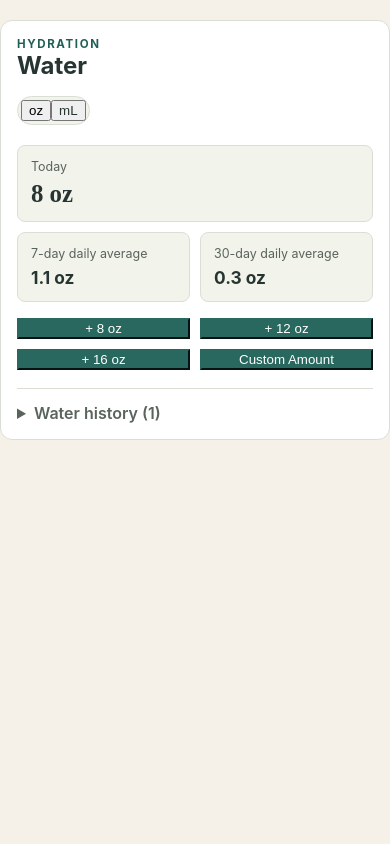
edits an entry in place and updates the total
The width and height of the screenshot is (390, 844).
Click the heading "Water history (1)" at (97, 413), box [34,403,161,423]
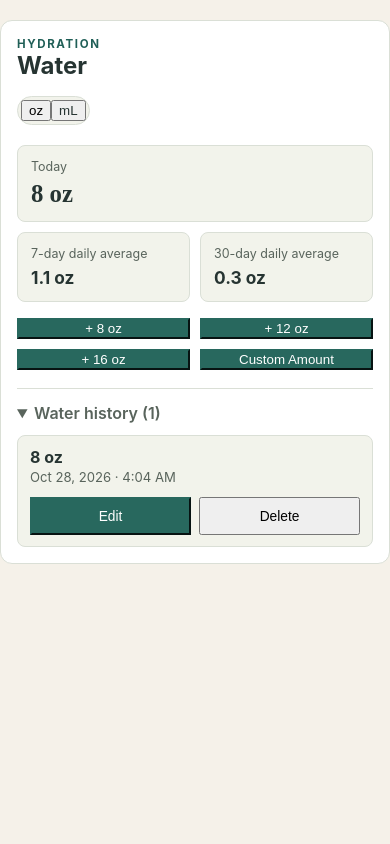
Click the button with aria-label "Edit 8 oz water entry" at (110, 516), box [30,497,191,535]
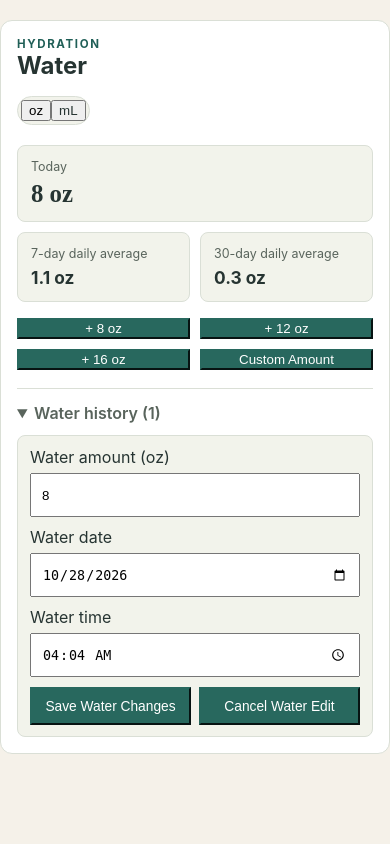
Replace the text in the number field named "Edit water amount in oz" with "12" at (195, 495), box [30,473,360,517]
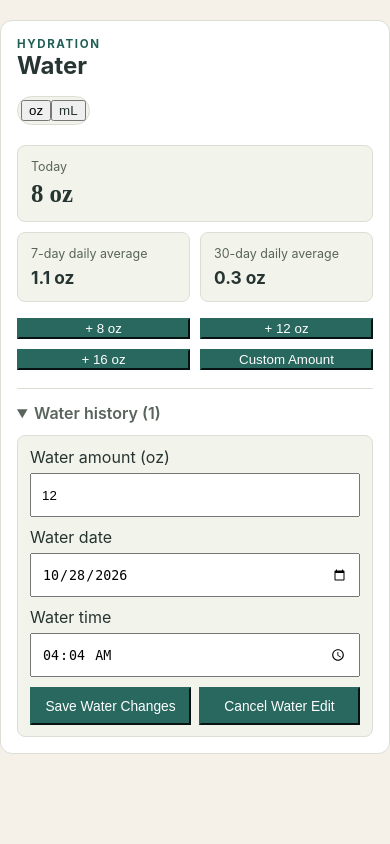
Click the button "Save Water Changes" at (110, 706), box [30,687,191,725]
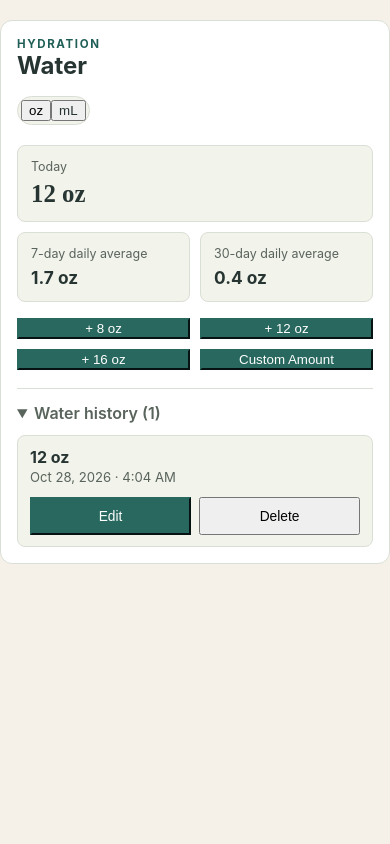
Expected: the heading "Water history (1)" is shown, [34,403,161,423]
Expected: the text "Today" shows "12 oz", [31,180,85,207]
